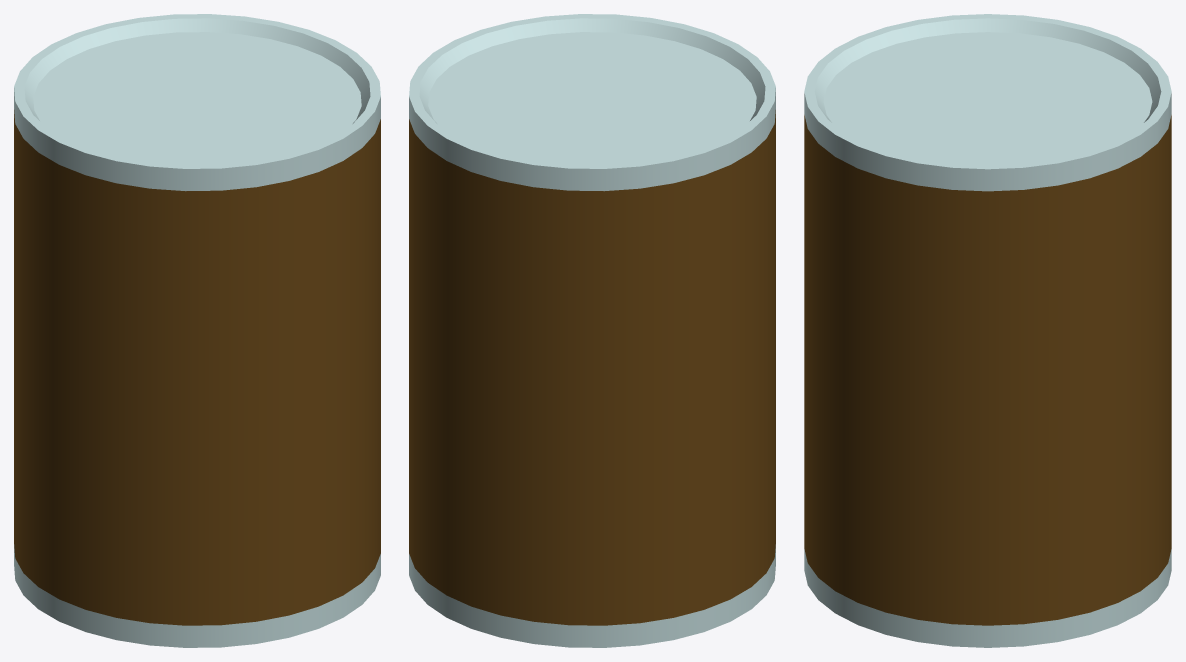
File: can_beans.glb
3 views of the same model, side by side, from view 1: azimuth 30°, elevation 25°; view 2: azimuth 150°, elevation 25°; view 3: azimuth 270°, elevation 25° (orthographic).
Visible parts, largest first — view 1: can_beans; view 2: can_beans; view 3: can_beans.
Part boxes in pixels (x1,y1,x2,y2): can_beans: (14,14,380,647); can_beans: (409,14,775,647); can_beans: (804,14,1171,647).
Bounding box in the file's own units: 0.08 × 0.115 × 0.08.
